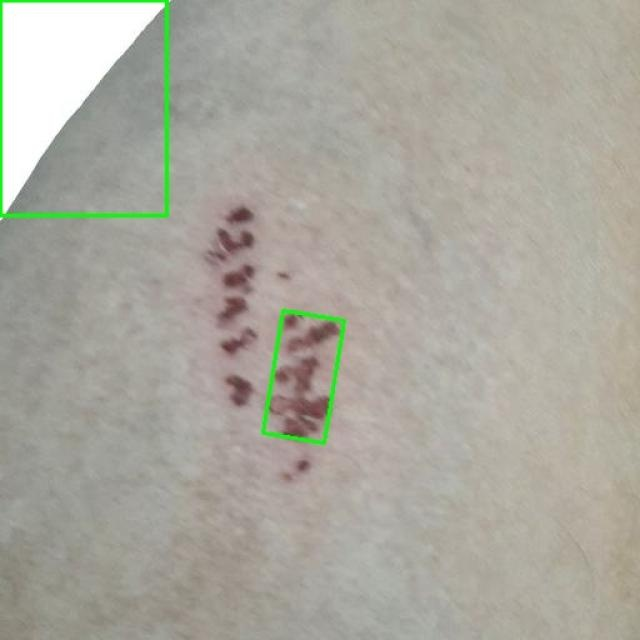Scabies: (0, 0, 166, 215), (263, 311, 345, 444)
